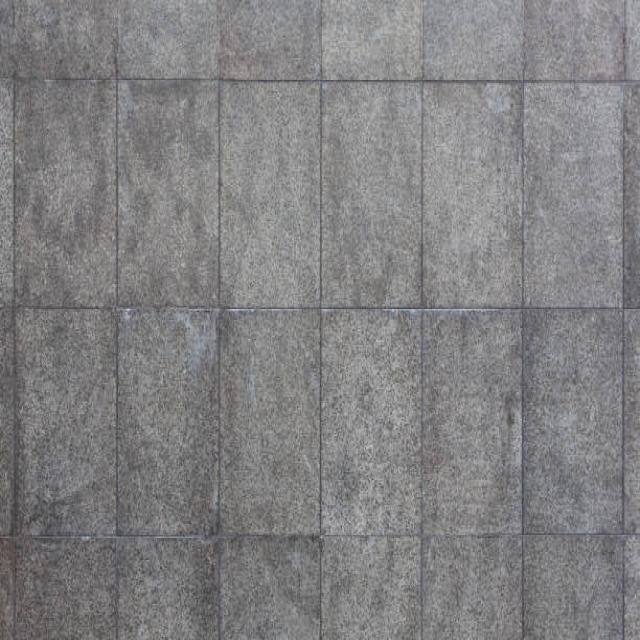Sedimentary: (2, 1, 638, 640)
